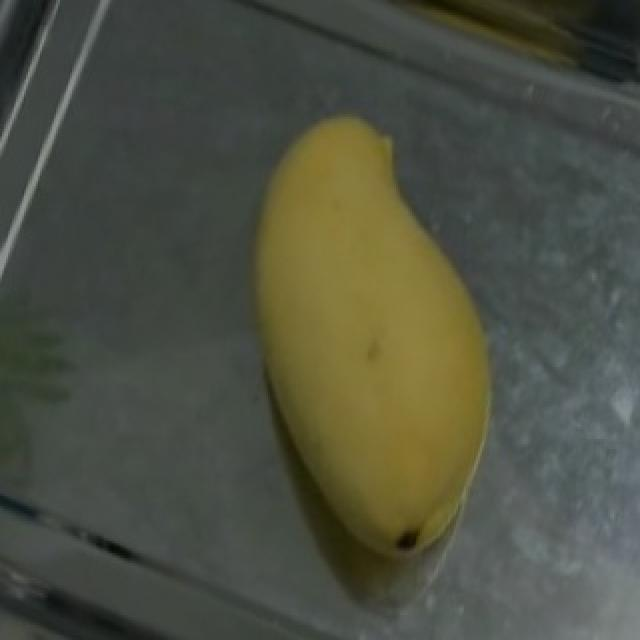fruit: (192, 77, 546, 484)
